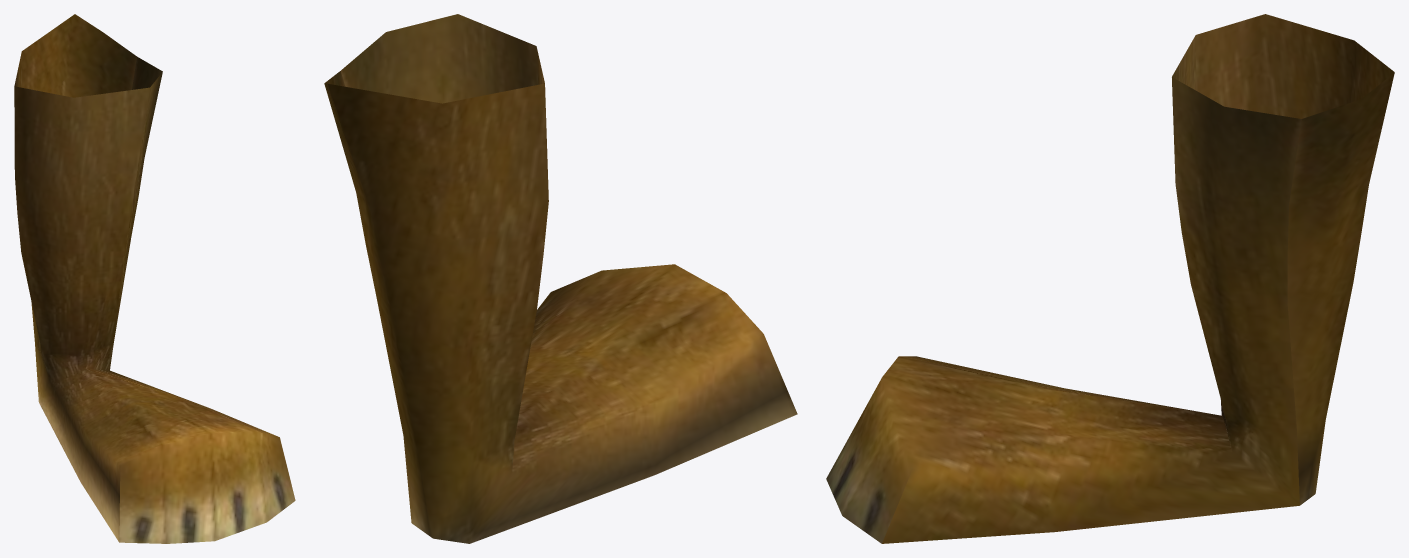
File: PataDerAlex.fbx
3 renders of one model, left to right at view 1: azimuth 30°, elevation 25°; view 2: azimuth 150°, elevation 25°; view 3: azimuth 270°, elevation 25°, orthographic. The views are drawn at different scales.
Visible parts, largest first — view 1: PataDerAlex; view 2: PataDerAlex; view 3: PataDerAlex.
Part boxes in pixels (x1=…): PataDerAlex: x1=14, y1=14, x2=295, y2=543; PataDerAlex: x1=324, y1=14, x2=797, y2=543; PataDerAlex: x1=826, y1=14, x2=1394, y2=543.
Size of the model in its own units: 0.7109 by 1.34 by 1.51.
